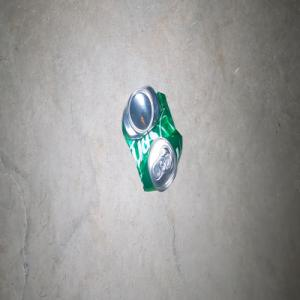SodaCan: (121, 84, 182, 191)
